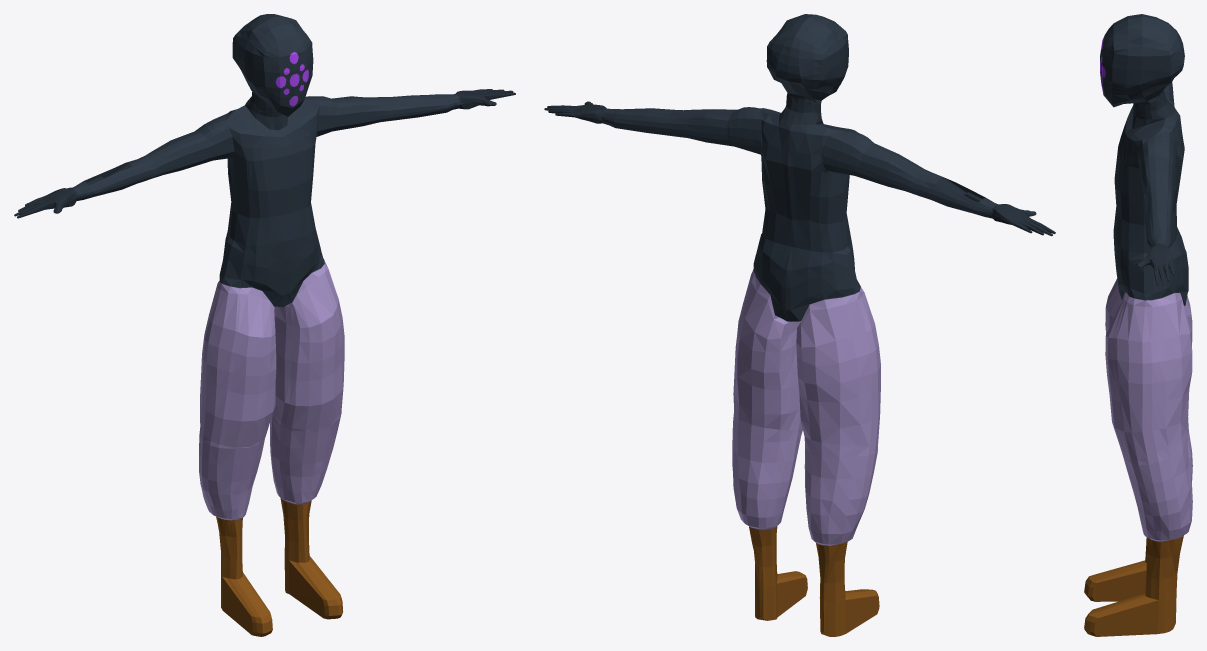
File: Bow_Enemy.obj
3 views of the same model, side by side, from view 1: azimuth 30°, elevation 25°; view 2: azimuth 150°, elevation 25°; view 3: azimuth 270°, elevation 25° (orthographic).
Visible parts, largest first — view 1: Cube; view 2: Cube; view 3: Cube.
Part boxes in pixels (left/top/right/bottom): Cube: left=14, top=14, right=515, bottom=636; Cube: left=544, top=14, right=1055, bottom=636; Cube: left=1084, top=14, right=1192, bottom=636.
Size of the model in its own units: 3.49 by 3.95 by 0.6507.
Materials: 1 (1 with a texture image).
